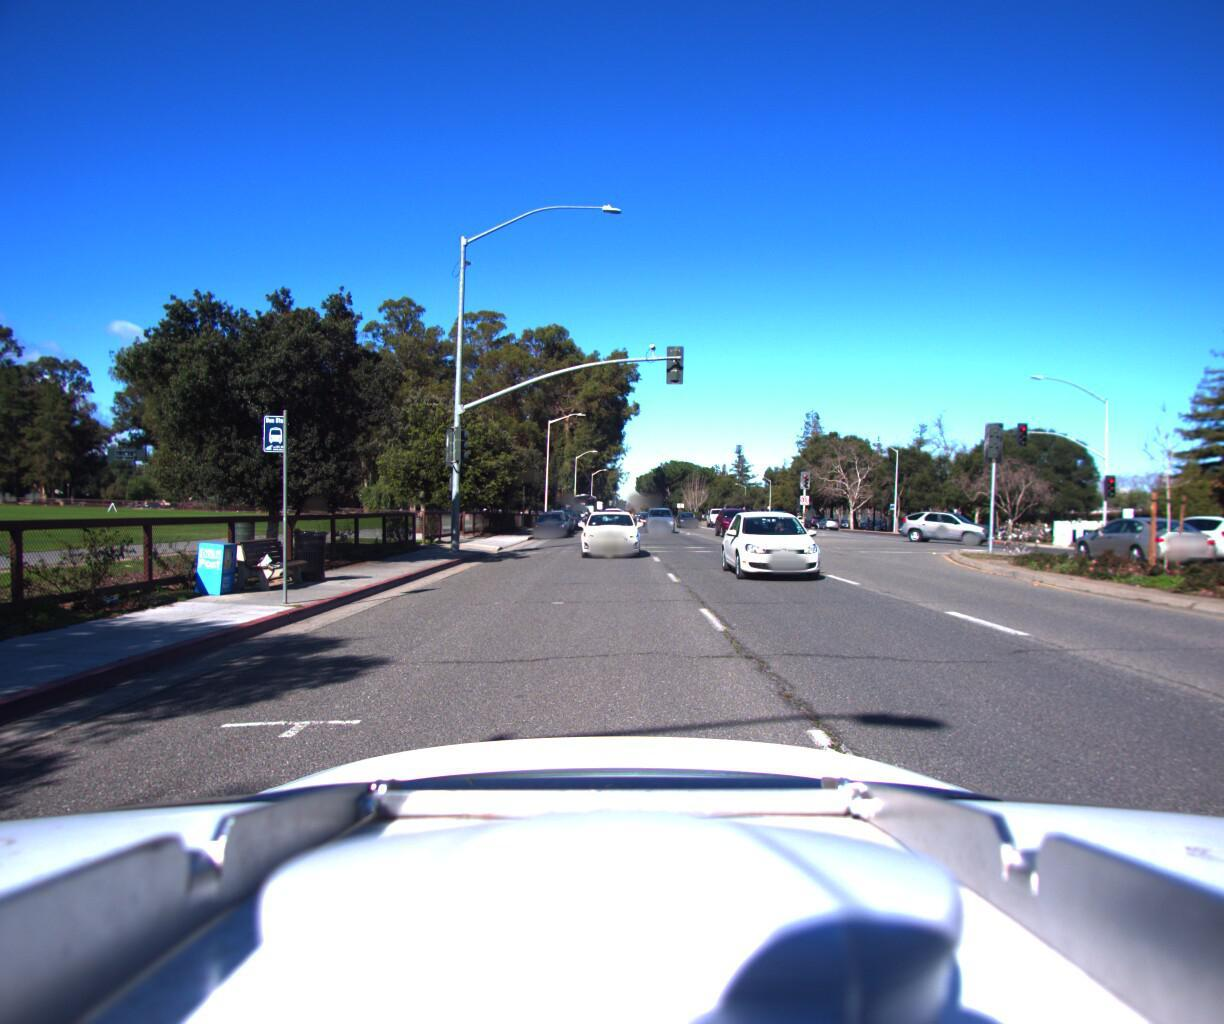bus: (567, 490, 599, 526)
car: (722, 505, 844, 588), (1061, 513, 1224, 573), (1133, 511, 1224, 573), (907, 508, 1013, 548), (577, 505, 644, 559), (712, 504, 760, 536), (532, 509, 570, 539), (536, 507, 572, 537), (645, 504, 680, 532), (676, 509, 702, 527)
